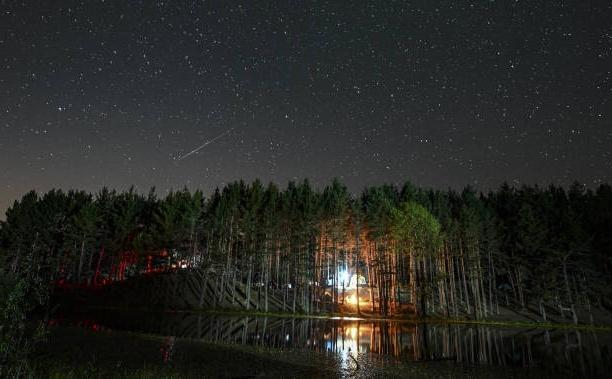meteorite: (164, 128, 237, 162)
